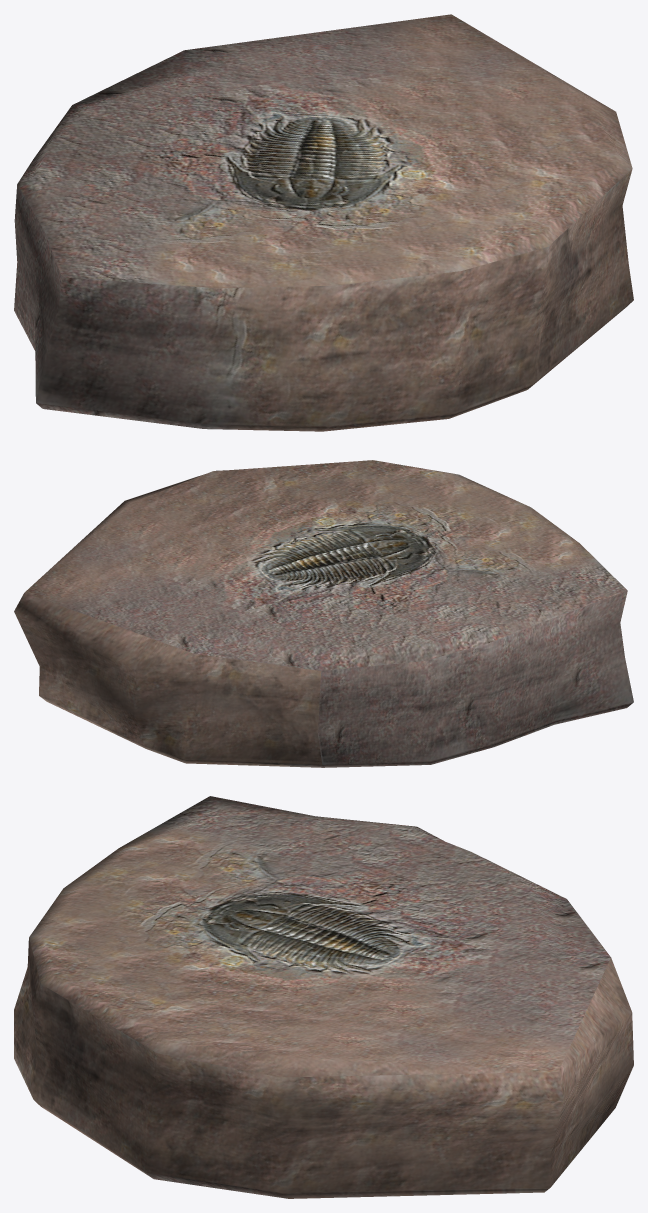
File: Foss01.obj
3 views of the same model, one above another, from view 1: azimuth 30°, elevation 25°; view 2: azimuth 150°, elevation 25°; view 3: azimuth 270°, elevation 25° (orthographic). The views are drawn at different scales.
Parts seen in each view (by area): view 1: SandstoneRawLo; view 2: SandstoneRawLo; view 3: SandstoneRawLo.
Part boxes in pixels (left/top/right/bottom): SandstoneRawLo: left=14, top=14, right=633, bottom=431; SandstoneRawLo: left=14, top=460, right=633, bottom=767; SandstoneRawLo: left=14, top=796, right=633, bottom=1198.
Bounding box in the file's own units: 0.2652 × 0.0659 × 0.2444.
